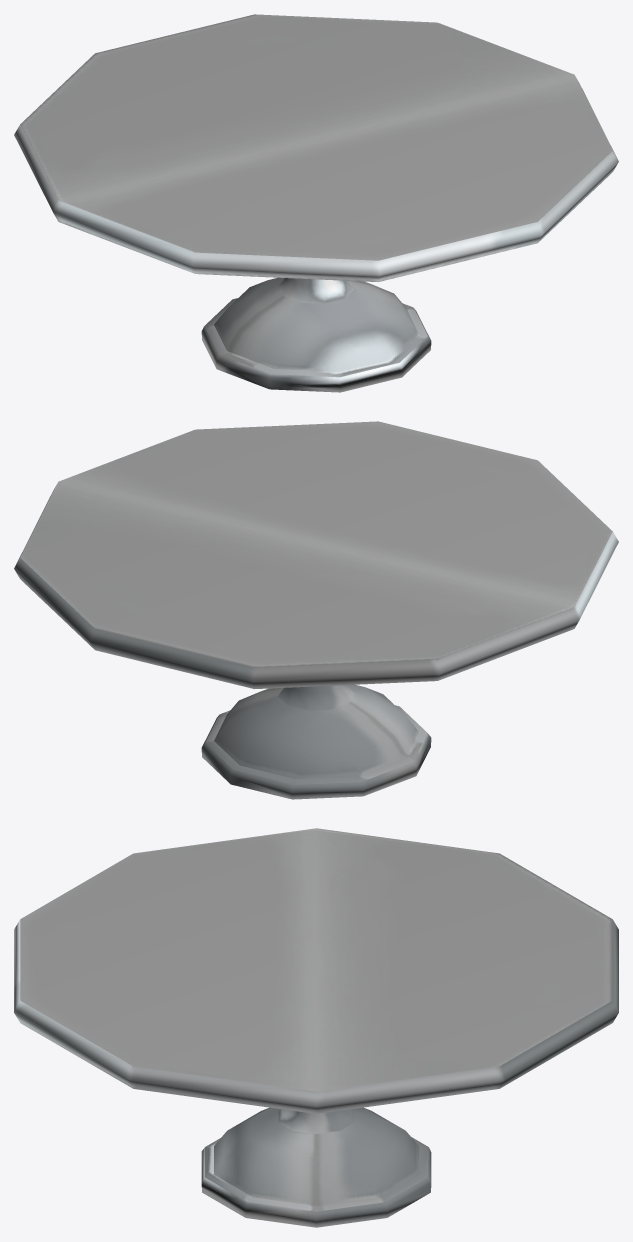
File: Silver_Display_Large.fbx
The picture shows the model from 3 angles, top to bottom: view 1: azimuth 30°, elevation 25°; view 2: azimuth 150°, elevation 25°; view 3: azimuth 270°, elevation 25°; orthographic projection. The views are drawn at different scales.
Parts seen in each view (by area): view 1: Silver_Display_Large; view 2: Silver_Display_Large; view 3: Silver_Display_Large.
Boxes of the visible parts, left/top/right/bottom form: Silver_Display_Large: left=14, top=14, right=618, bottom=392; Silver_Display_Large: left=14, top=421, right=618, bottom=799; Silver_Display_Large: left=14, top=828, right=618, bottom=1227.
Bounding box in the file's own units: 107 × 40.68 × 102.
